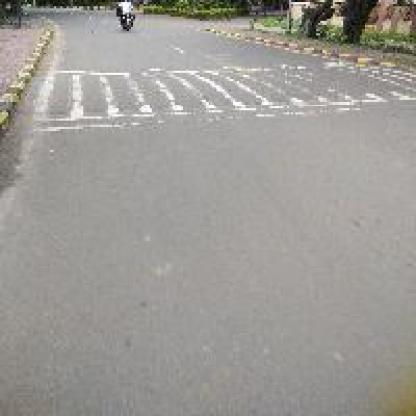Speed Bump: (31, 56, 414, 133)
